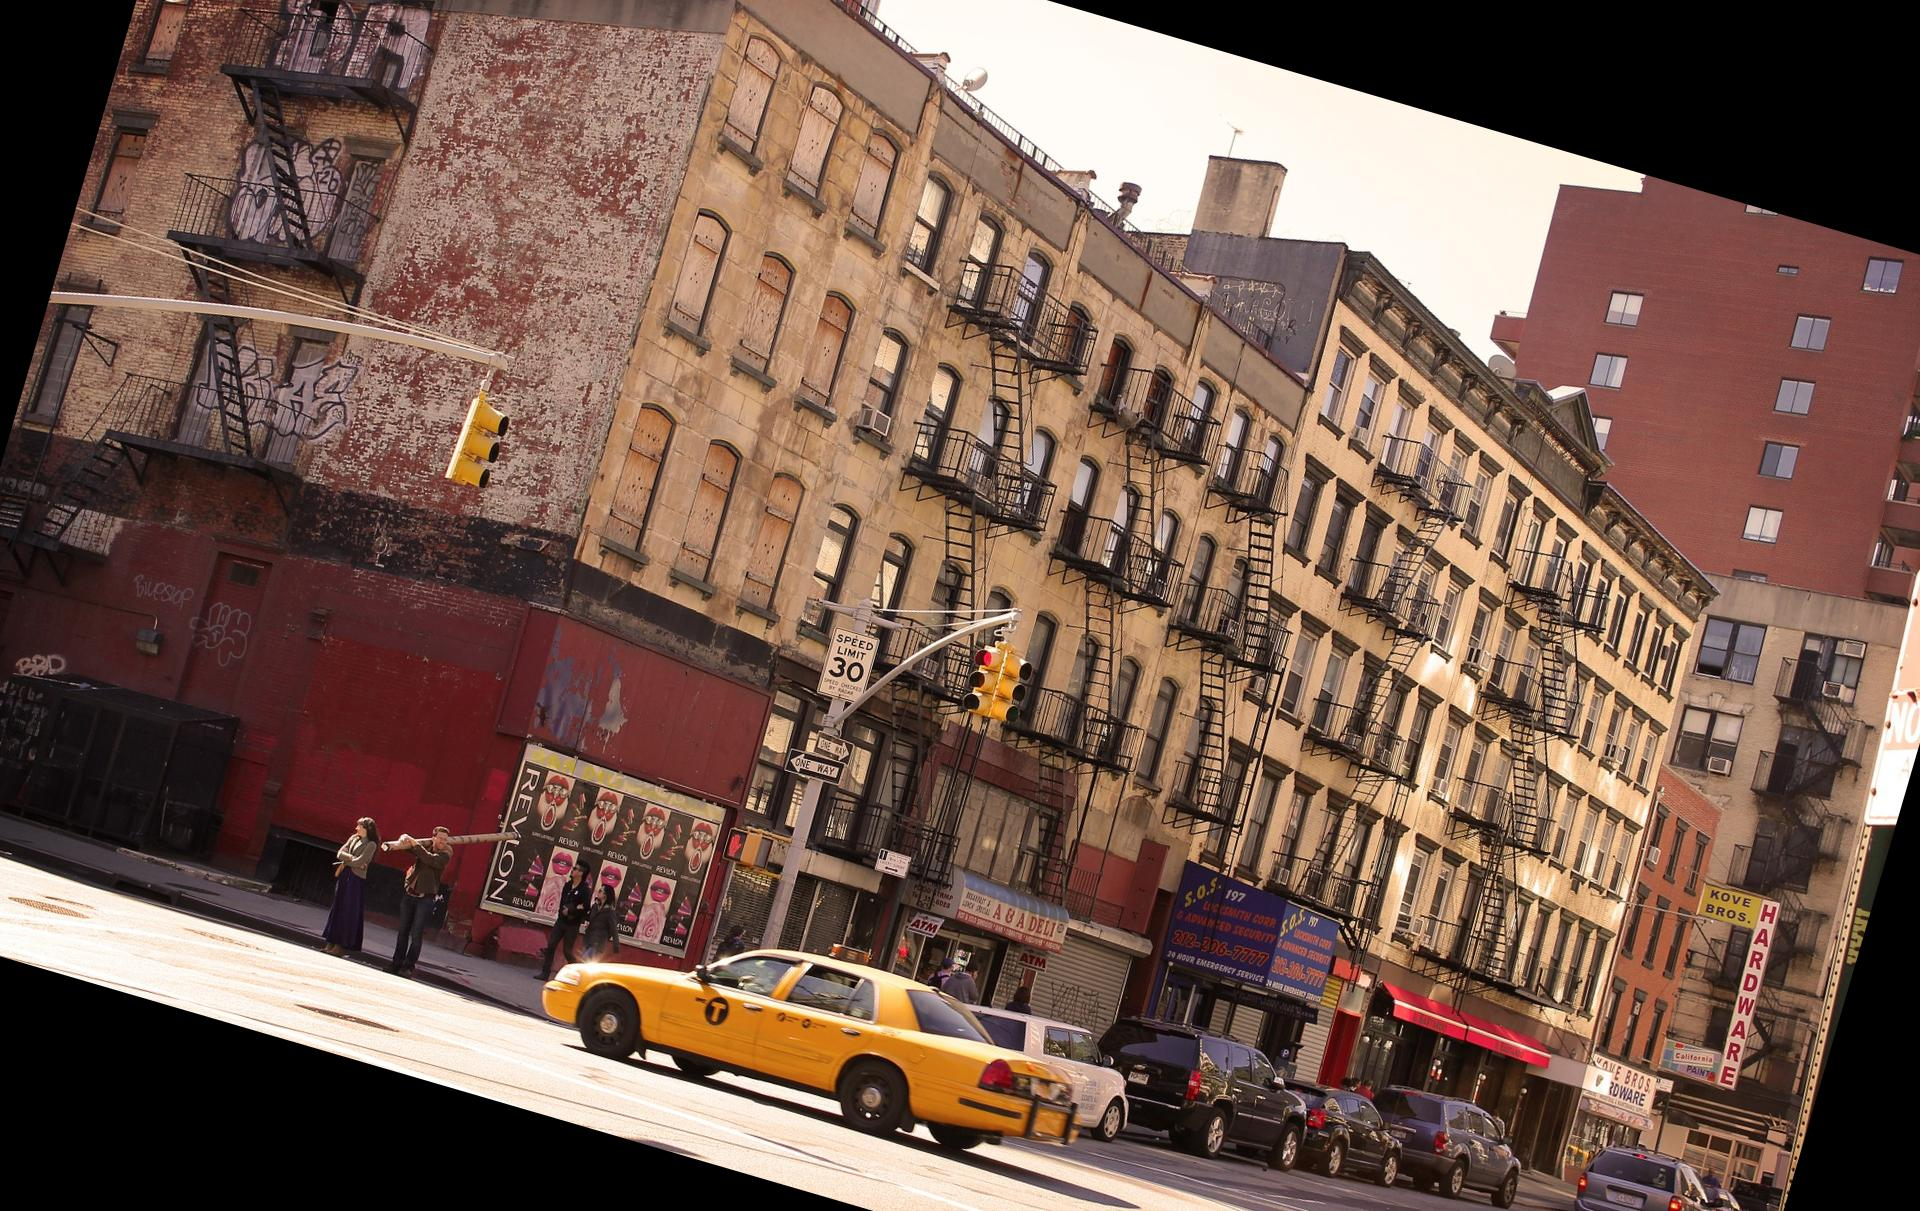taxi: (523, 933, 1097, 1169)
